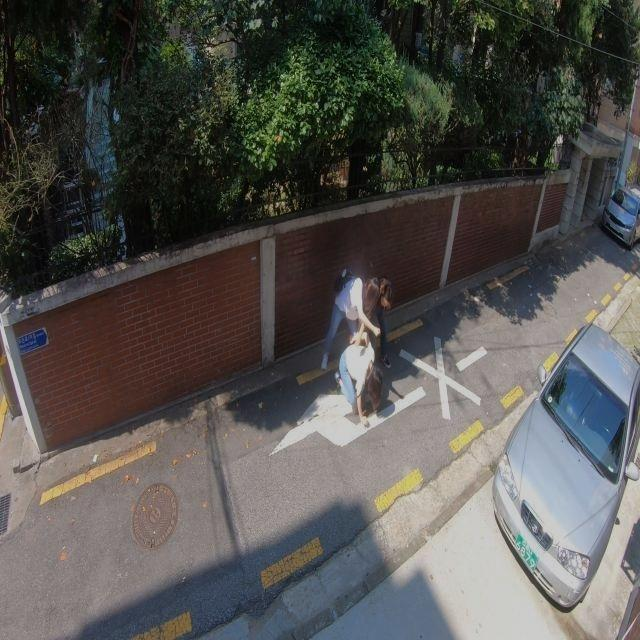fight: (325, 272, 402, 424)
